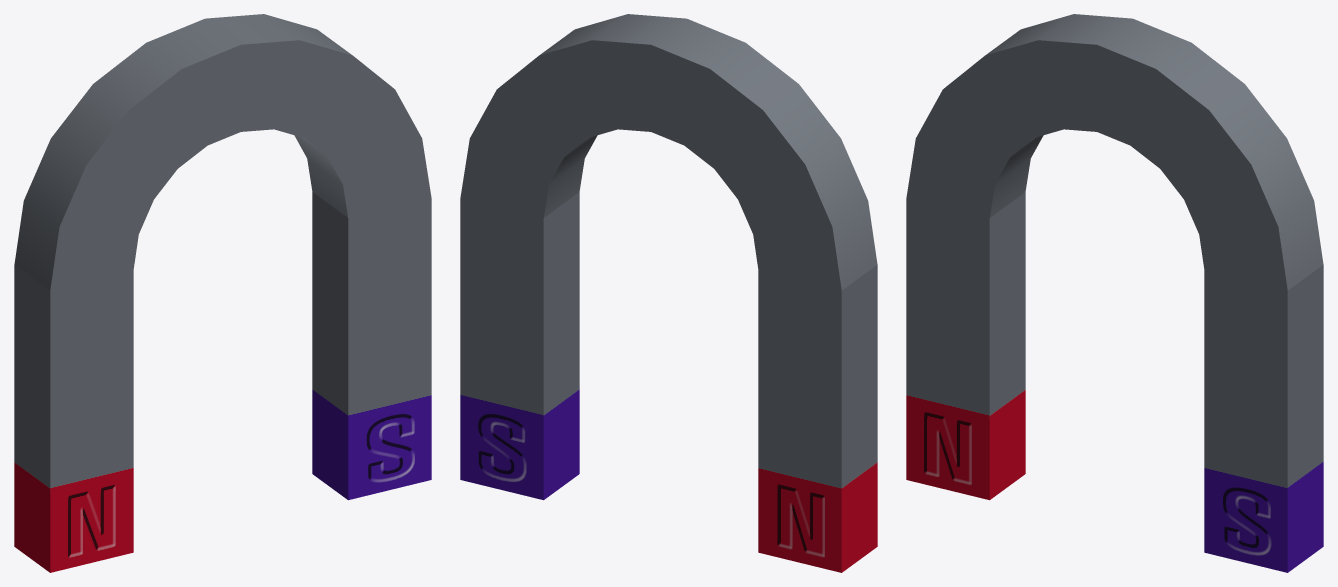
The model's file is Magnet.FBX.
The picture shows the model from 3 angles, left to right: view 1: azimuth 30°, elevation 25°; view 2: azimuth 150°, elevation 25°; view 3: azimuth 330°, elevation 25°; orthographic projection.
Visible parts, largest first — view 1: Tube001; view 2: Tube001; view 3: Tube001.
Part boxes in pixels (x1,y1,x2,y2): Tube001: [14, 14, 431, 572]; Tube001: [460, 14, 877, 572]; Tube001: [906, 14, 1323, 572].
Size of the model in its own units: 28.28 by 34.14 by 4.6.
